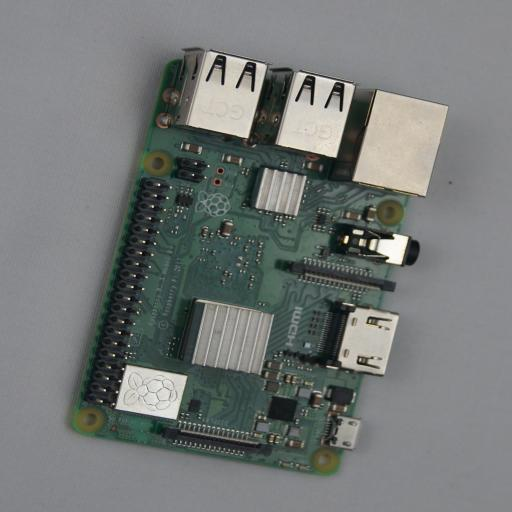Raspberry Pi 3 B-: (66, 47, 452, 476)
